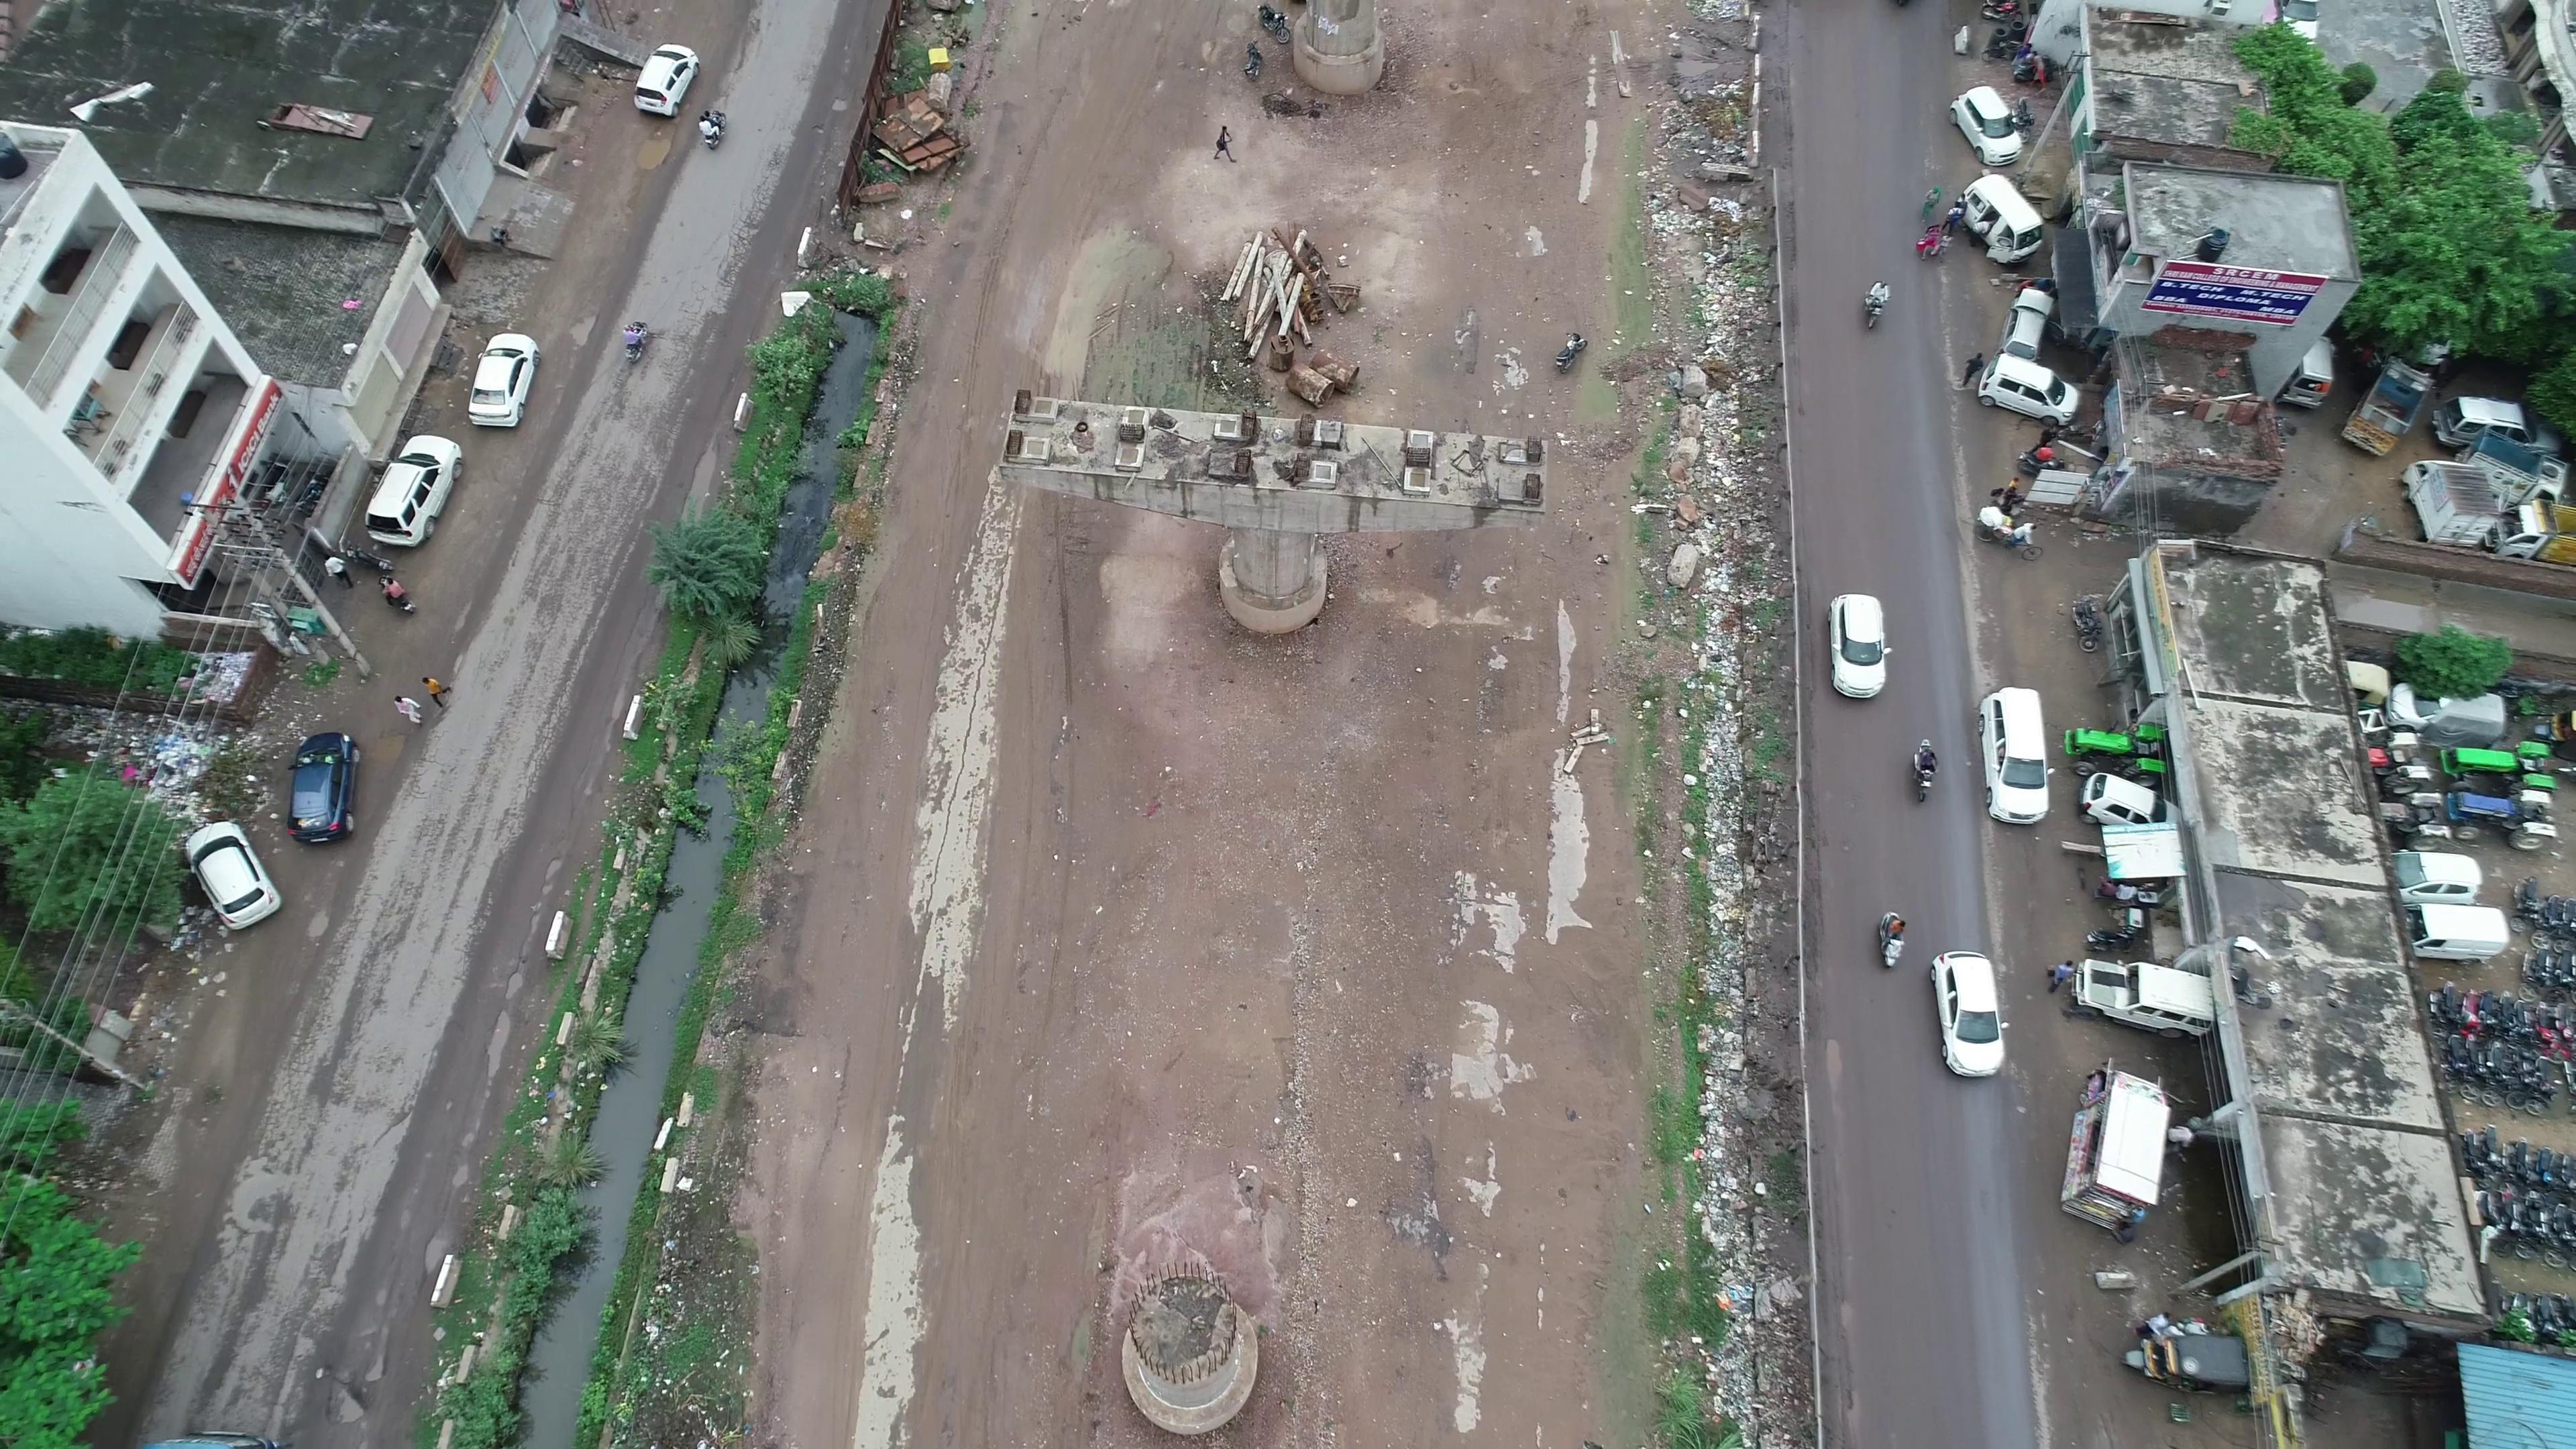Alligator_cracks: (713, 142, 798, 285)
